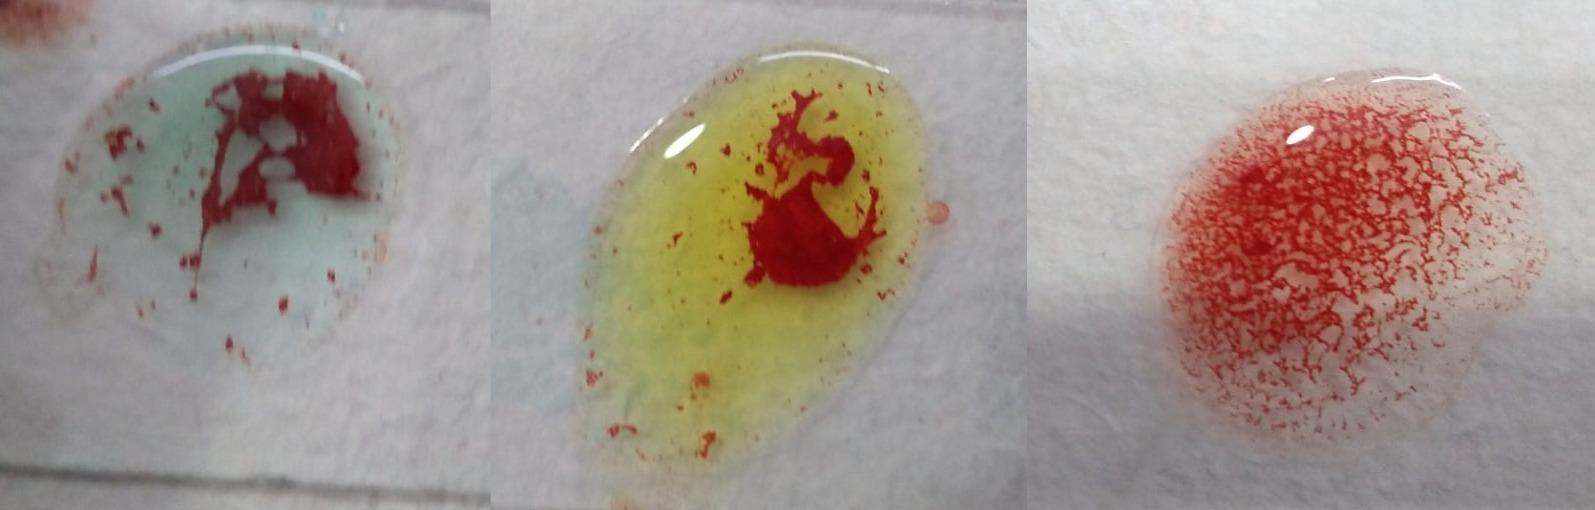A: (57, 21, 373, 326)
B: (584, 46, 934, 474)
D: (1155, 54, 1540, 429)
